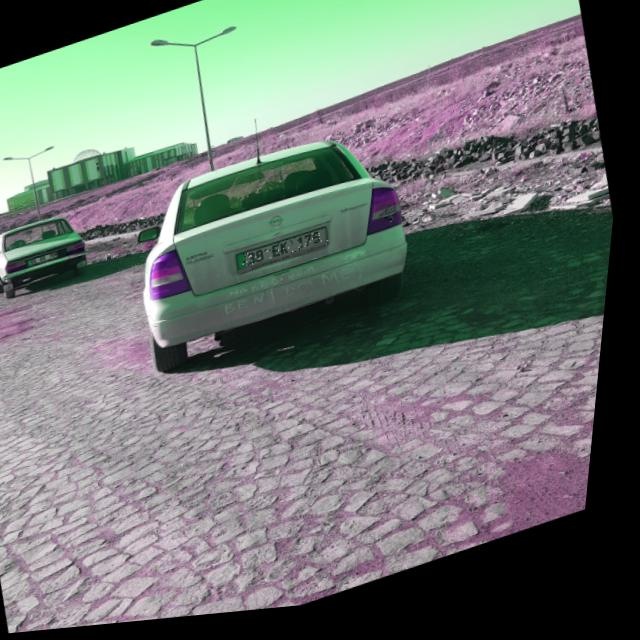license_plate: (241, 232, 335, 276)
